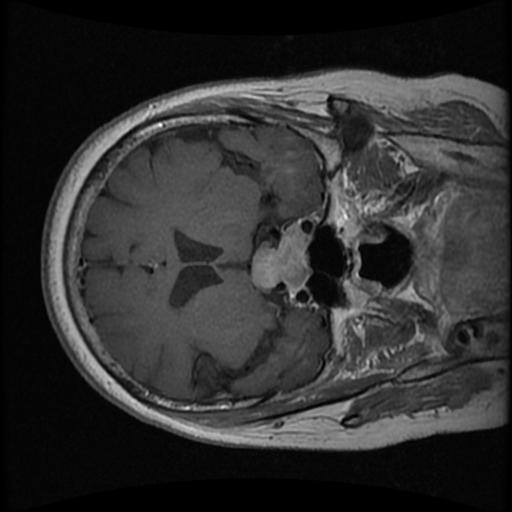pituitary tumour: (248, 224, 306, 290)
